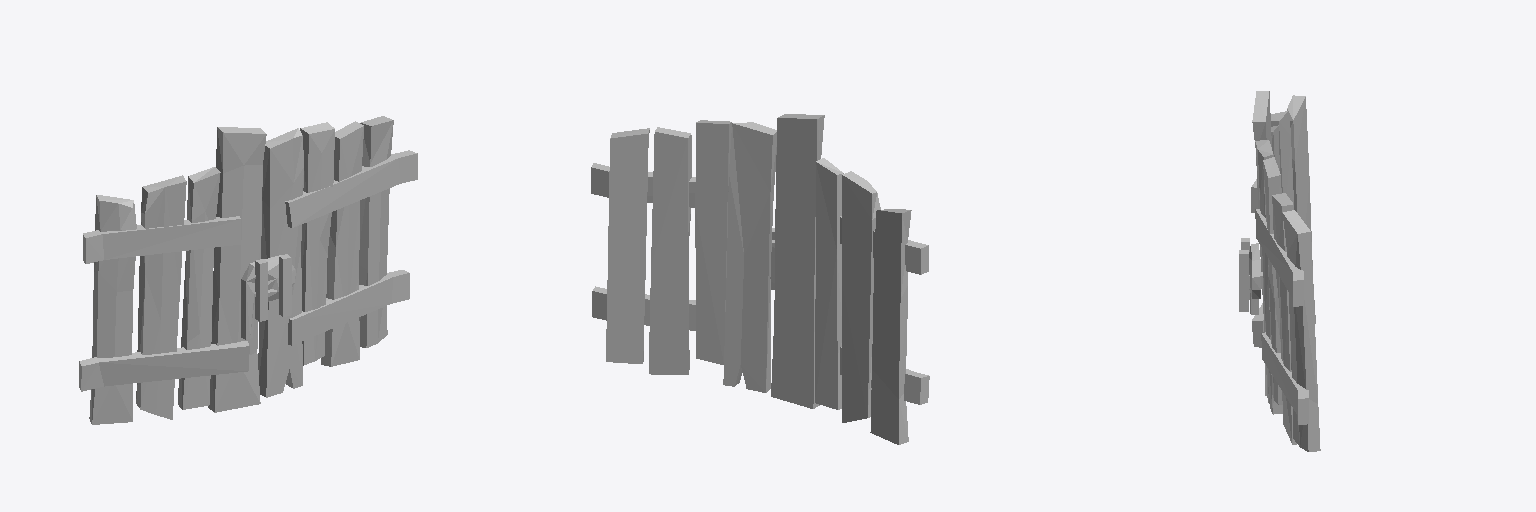
File: M_CaveTransitionLvl1Door_01.obj
3 renders of one model, left to right at view 1: azimuth 30°, elevation 25°; view 2: azimuth 150°, elevation 25°; view 3: azimuth 270°, elevation 25°, orthographic.
Size of the model in its own units: 3.68 by 3.01 by 0.7705.